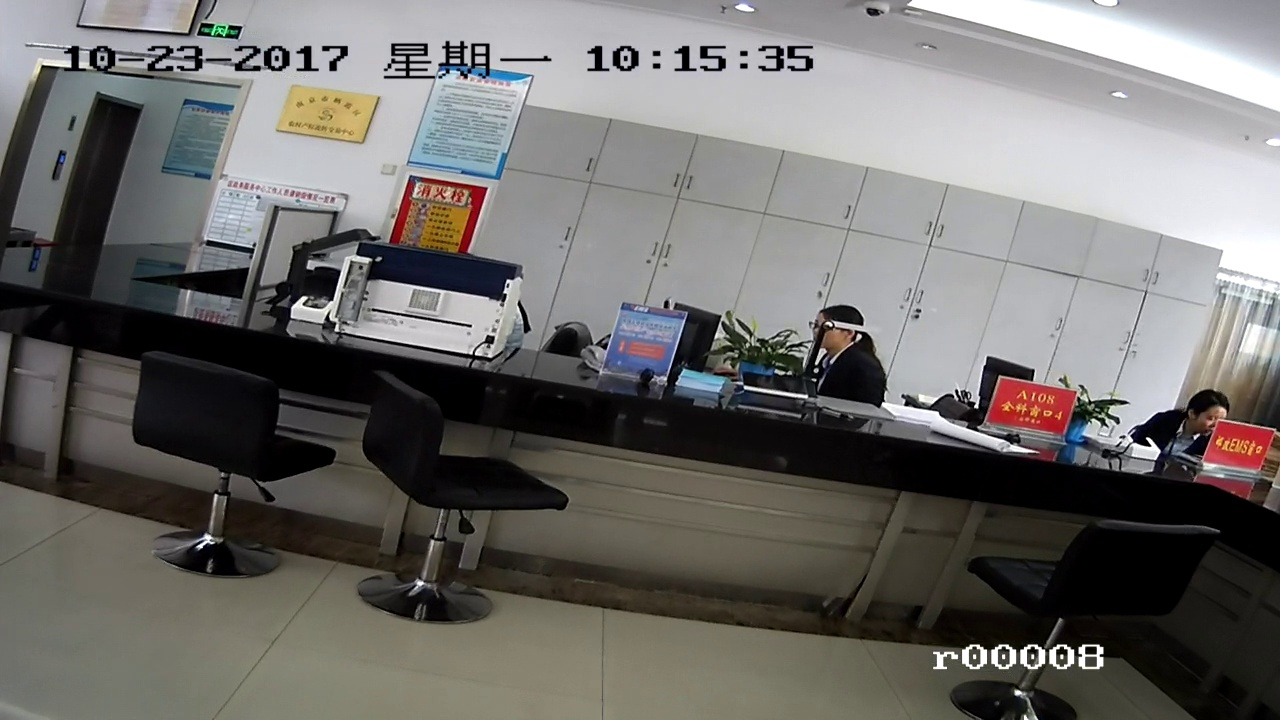billboard: (417, 67, 506, 179), (286, 86, 370, 140), (169, 97, 220, 180), (994, 383, 1064, 437)
chair: (951, 513, 1235, 720), (366, 382, 573, 619), (130, 355, 341, 583)
person: (815, 302, 875, 398), (1169, 383, 1232, 437)
pot: (729, 327, 805, 393), (1072, 384, 1116, 455)
